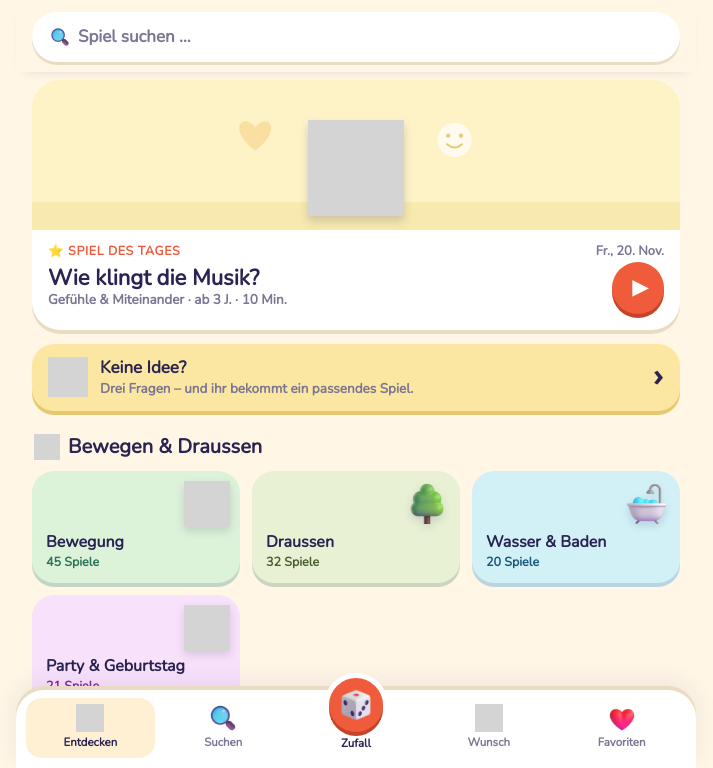
Test case: Entdecken › fokussiert schon beim Tippen ein Feld, damit iOS die Tastatur öffnet
Click the link "Spiel suchen …": x=134, y=36 [32,12,680,62]
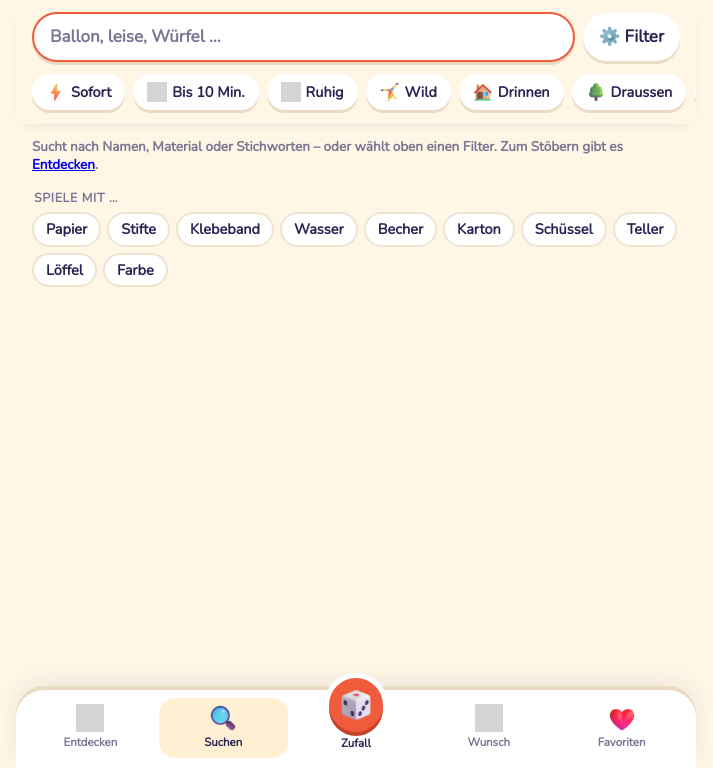
Expected: the number of search fields is 1, [32,12,575,62]
